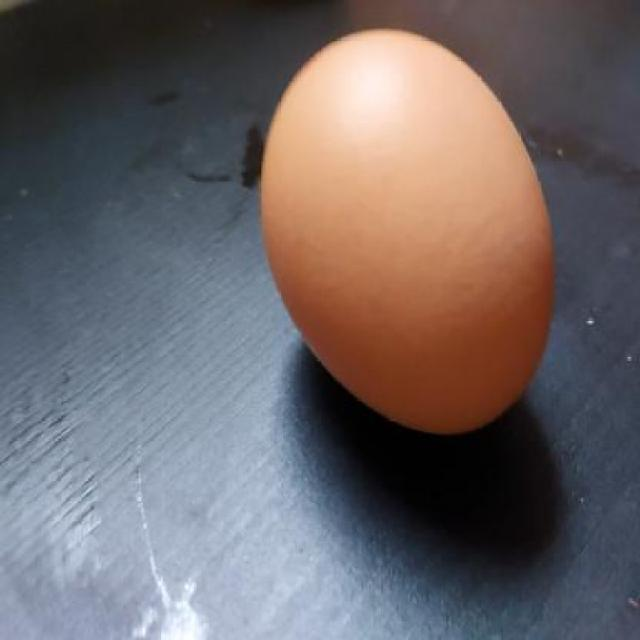biodegradable: (258, 28, 554, 440)
